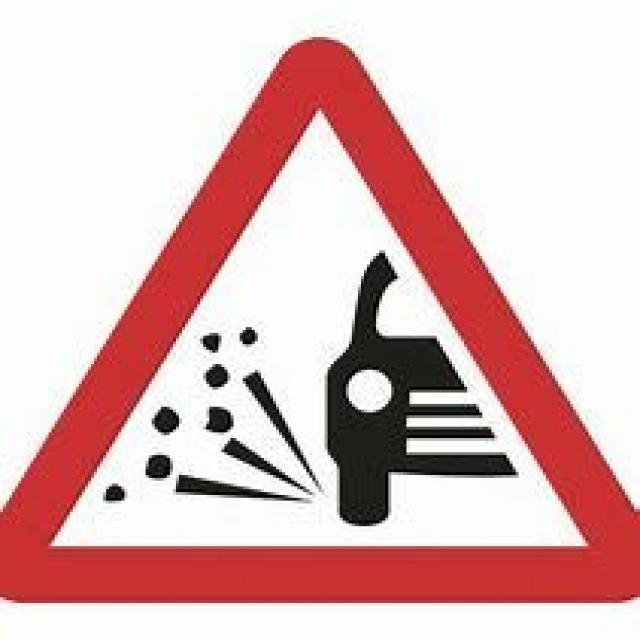LOOSE_GRAVEL: (0, 31, 637, 598)
